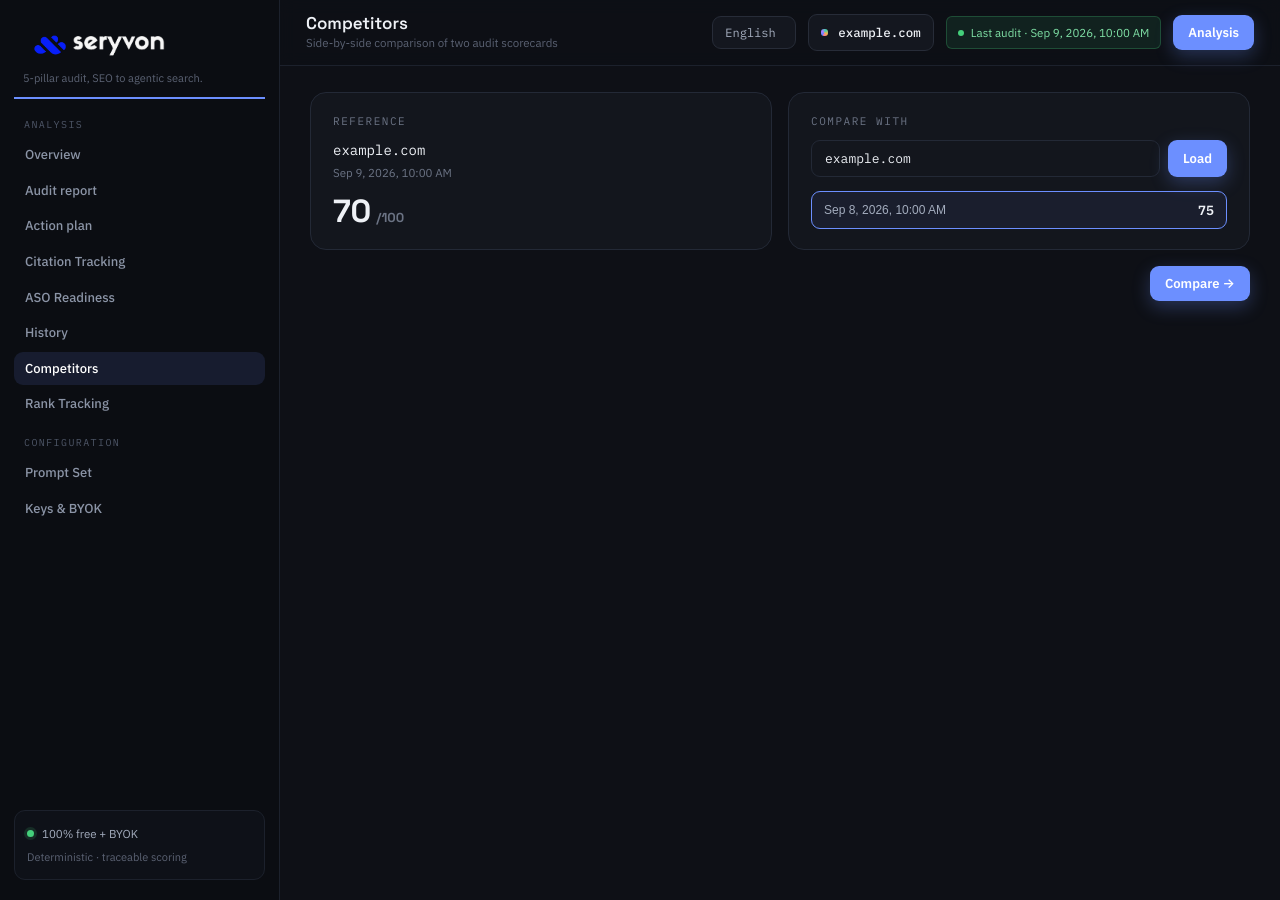
Scenario: surfaces an API error returned by comparison
Click the button "Compare →" at (1200, 283), box [1150,266,1250,300]
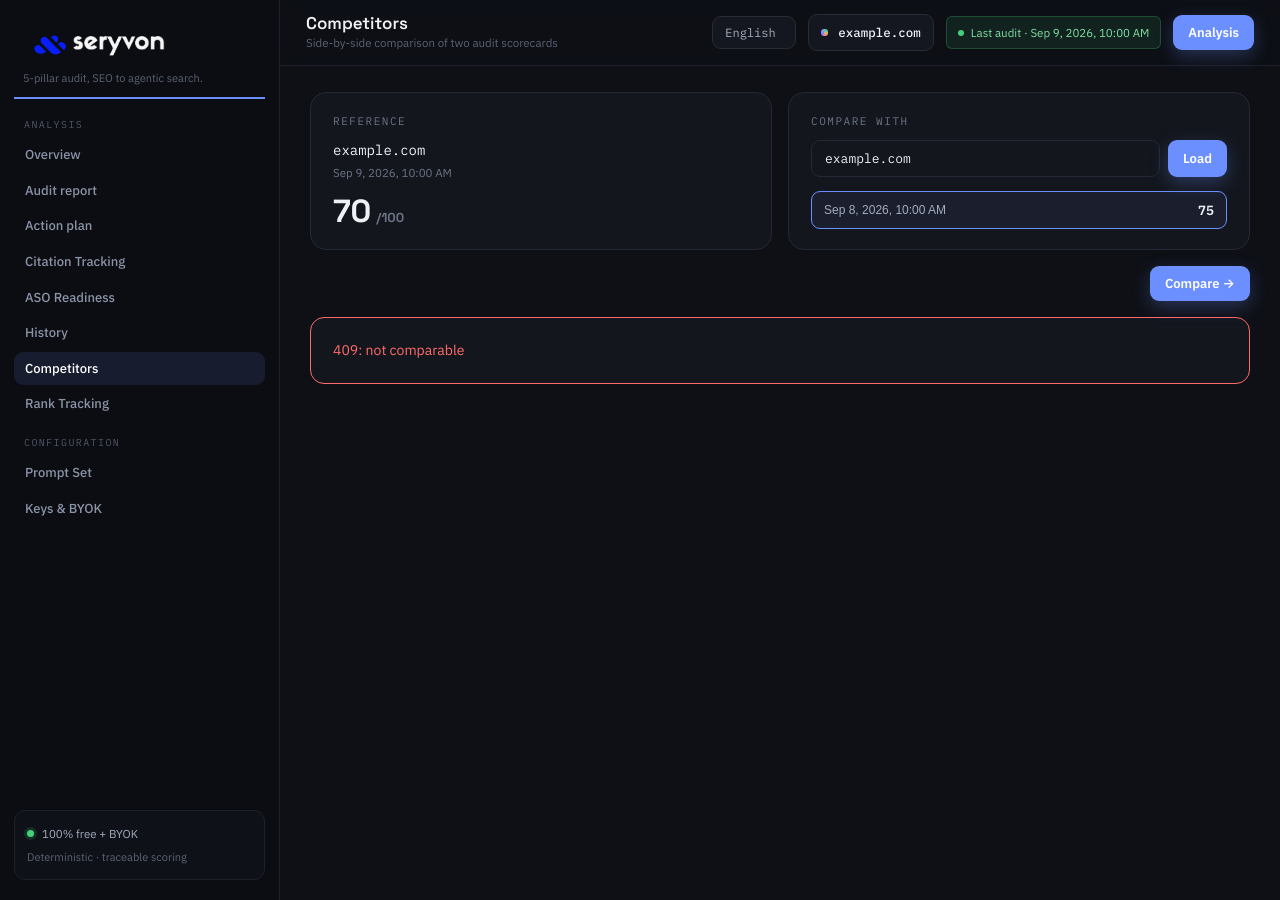
Expected: the text "409: not comparable" is shown, [310,316,1250,384]
